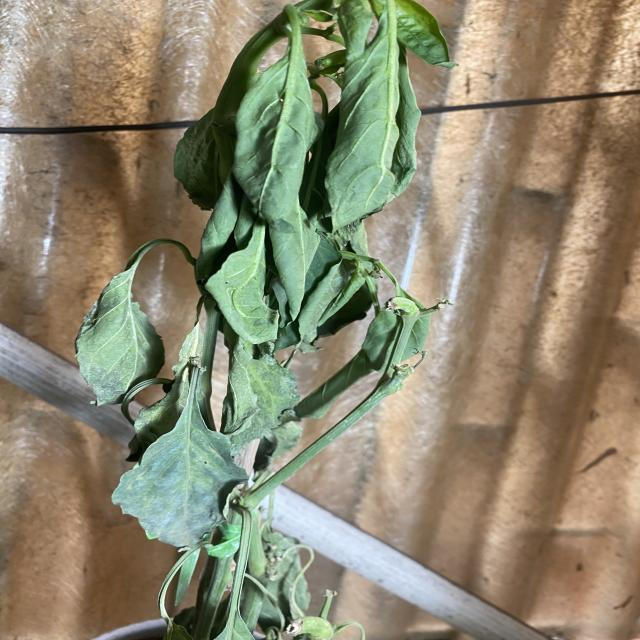Leaf: (111, 418, 247, 552), (326, 34, 399, 229), (231, 50, 315, 219), (72, 268, 166, 408)
